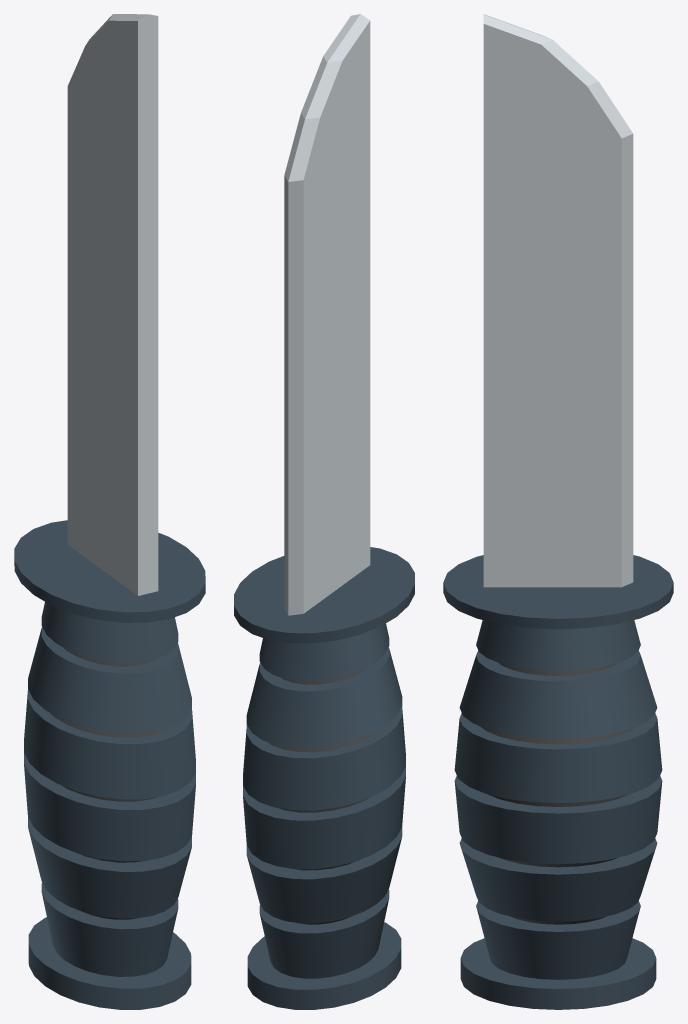
The model's file is knifeRound_smooth.obj.
3 views of the same model, side by side, from view 1: azimuth 30°, elevation 25°; view 2: azimuth 150°, elevation 25°; view 3: azimuth 270°, elevation 25° (orthographic). The views are drawn at different scales.
Visible parts, largest first — view 1: knifeRound_smooth; view 2: knifeRound_smooth; view 3: knifeRound_smooth.
Part boxes in pixels (x1,y1,x2,y2): knifeRound_smooth: (14, 14, 205, 1009); knifeRound_smooth: (234, 14, 414, 1009); knifeRound_smooth: (443, 14, 673, 1009).
Size of the model in its own units: 0.0574 by 0.3537 by 0.0766.
